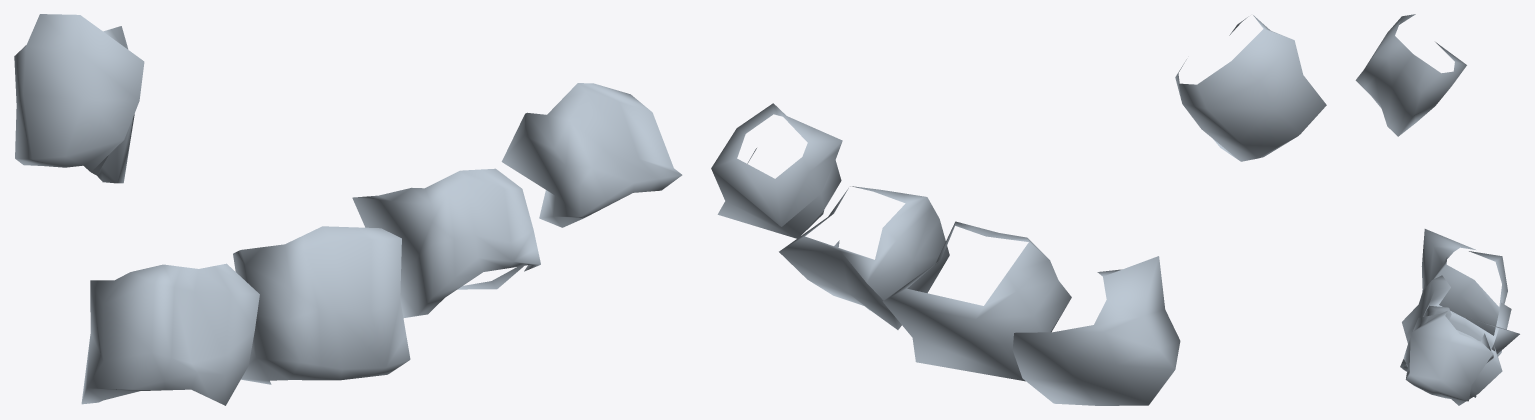
The model's file is articular-capsules-of-metacarpophalangeal-joints-r.glb.
3 renders of one model, left to right at view 1: azimuth 30°, elevation 25°; view 2: azimuth 150°, elevation 25°; view 3: azimuth 270°, elevation 25°, orthographic. The views are drawn at different scales.
Parts seen in each view (by area): view 1: Articular capsules of metacarpophalangeal joints.r; view 2: Articular capsules of metacarpophalangeal joints.r; view 3: Articular capsules of metacarpophalangeal joints.r.
Part boxes in pixels (x1=…): Articular capsules of metacarpophalangeal joints.r: x1=14, y1=14, x2=682, y2=405; Articular capsules of metacarpophalangeal joints.r: x1=711, y1=15, x2=1326, y2=405; Articular capsules of metacarpophalangeal joints.r: x1=1355, y1=14, x2=1519, y2=405.
Size of the model in its own units: 0.0943 by 0.0631 by 0.0337.
